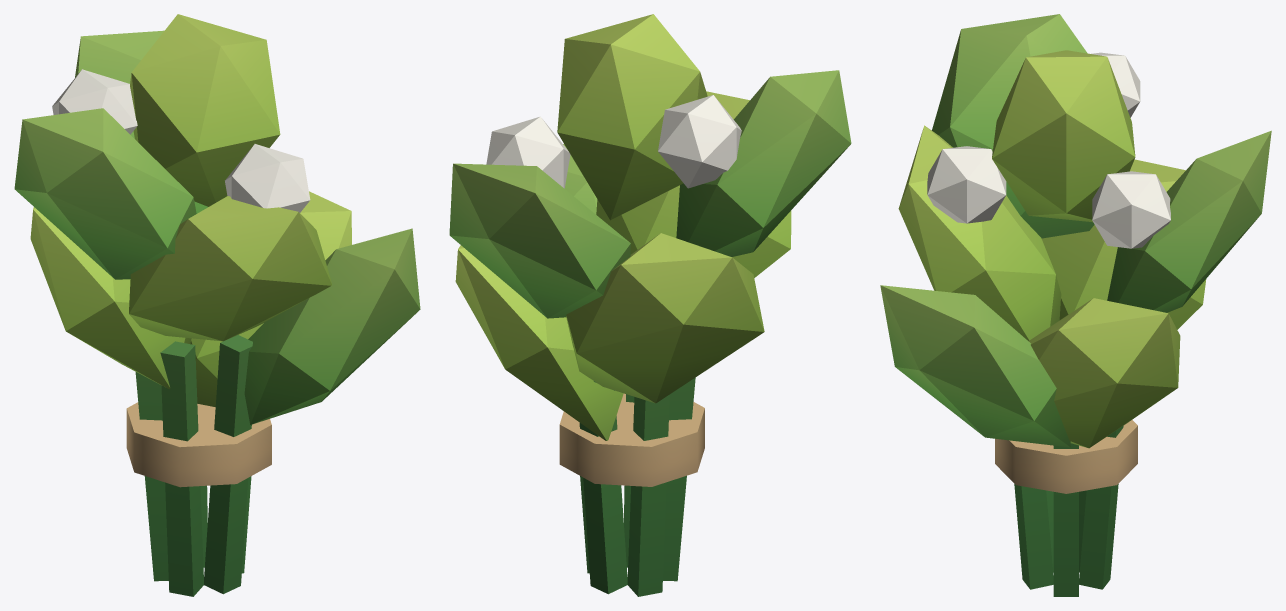
File: item_herb_mint.glb
The picture shows the model from 3 angles, left to right: view 1: azimuth 30°, elevation 25°; view 2: azimuth 150°, elevation 25°; view 3: azimuth 270°, elevation 25°; orthographic projection. The views are drawn at different scales.
Visible parts, largest first — view 1: item_herb_mint; view 2: item_herb_mint; view 3: item_herb_mint.
Boxes of the visible parts, bbox=[...] form: item_herb_mint: bbox=[14, 14, 420, 596]; item_herb_mint: bbox=[449, 14, 851, 596]; item_herb_mint: bbox=[880, 14, 1271, 596].
Size of the model in its own units: 0.9163 by 1.37 by 0.9291.
1 material, 1 textured.
